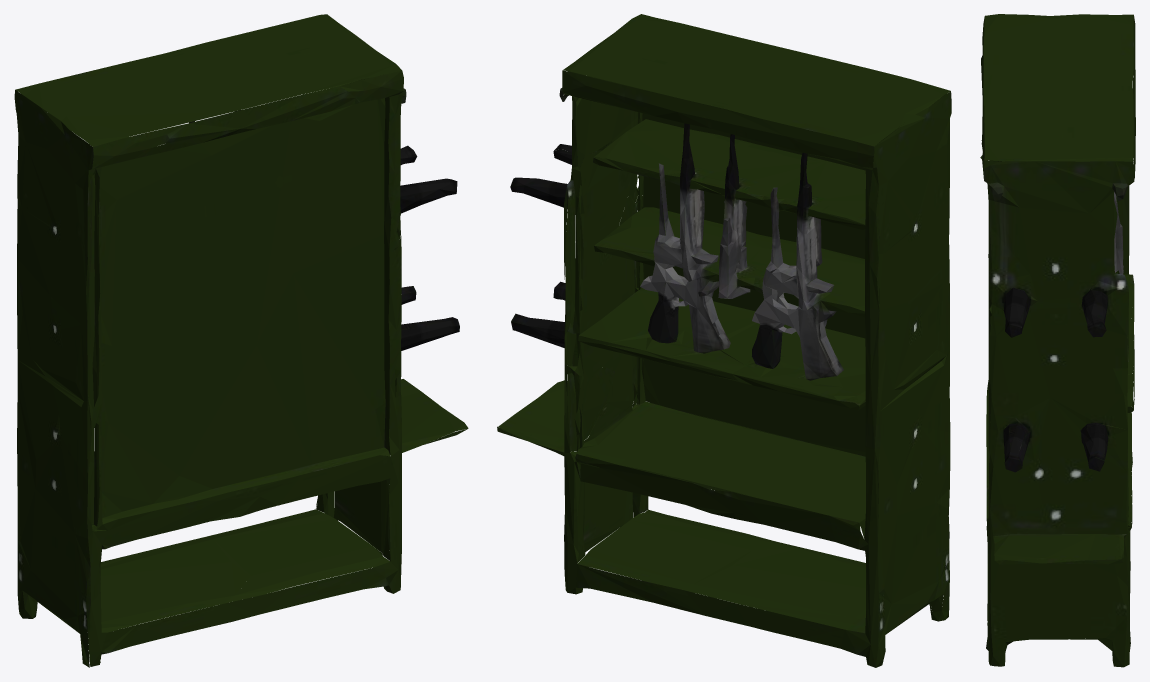
The model's file is rack.glb.
3 renders of one model, left to right at view 1: azimuth 30°, elevation 25°; view 2: azimuth 150°, elevation 25°; view 3: azimuth 270°, elevation 25°, orthographic. The views are drawn at different scales.
Visible parts, largest first — view 1: world; view 2: world; view 3: world.
Part boxes in pixels (x1,y1,x2,y2): world: (14, 14, 468, 667); world: (497, 14, 951, 667); world: (980, 14, 1135, 667).
Size of the model in its own units: 0.7696 by 1 by 0.2785.
1 material, 1 textured.
